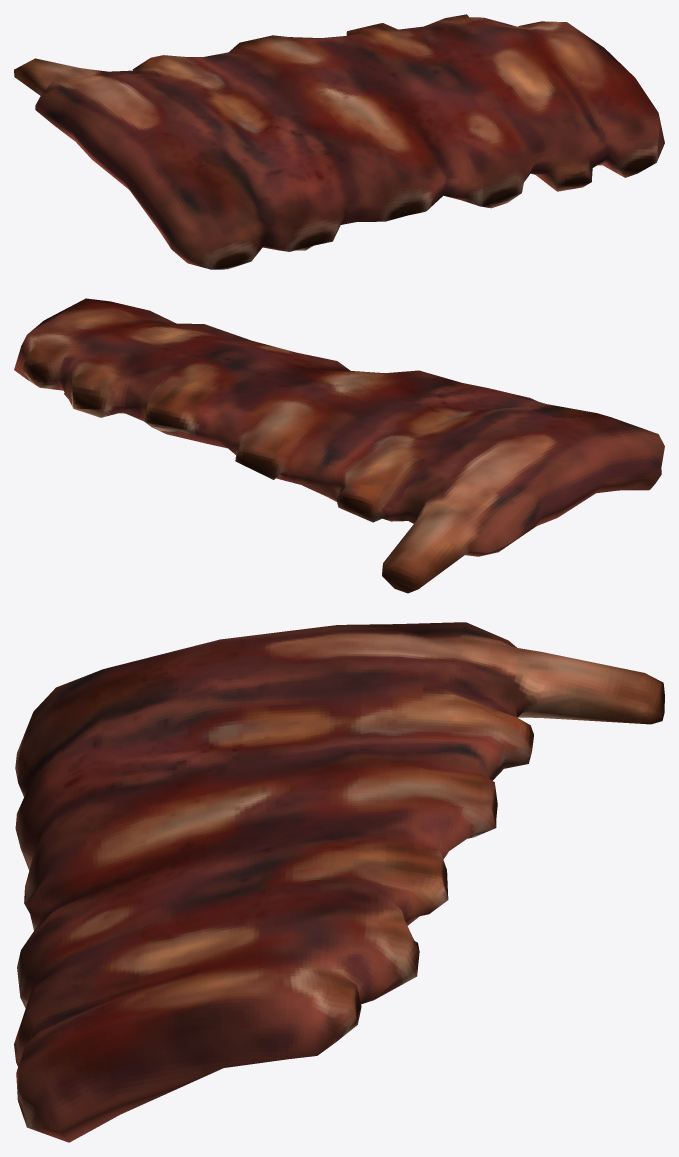
The model's file is ref_ribsbig.fbx.
3 renders of one model, top to bottom at view 1: azimuth 30°, elevation 25°; view 2: azimuth 150°, elevation 25°; view 3: azimuth 270°, elevation 25°, orthographic. The views are drawn at different scales.
Visible parts, largest first — view 1: ref_ribsbig; view 2: ref_ribsbig; view 3: ref_ribsbig.
Boxes of the visible parts, x1,y1,x2,y2 form: ref_ribsbig: (14,14,664,269); ref_ribsbig: (14,298,664,593); ref_ribsbig: (14,622,664,1142).
Bounding box in the file's own units: 100 × 19.88 × 70.89.
1 material, 1 textured.
